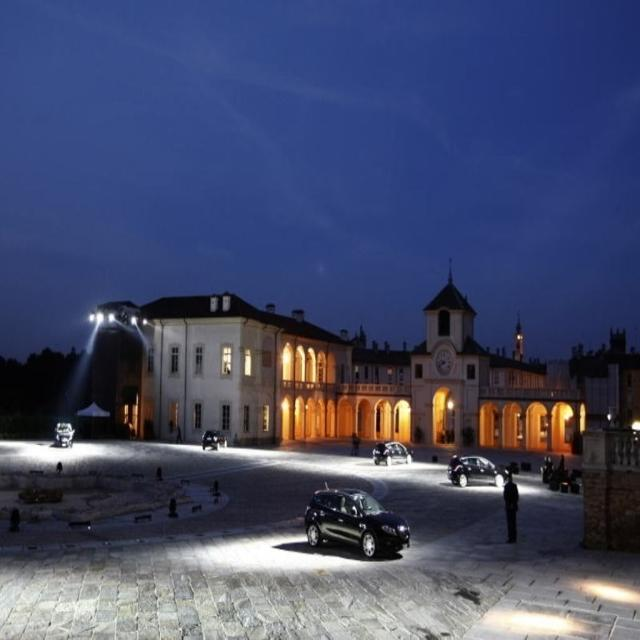car: (300, 481, 411, 557), (449, 454, 506, 483), (374, 436, 412, 472), (55, 420, 76, 451), (201, 430, 230, 451)
